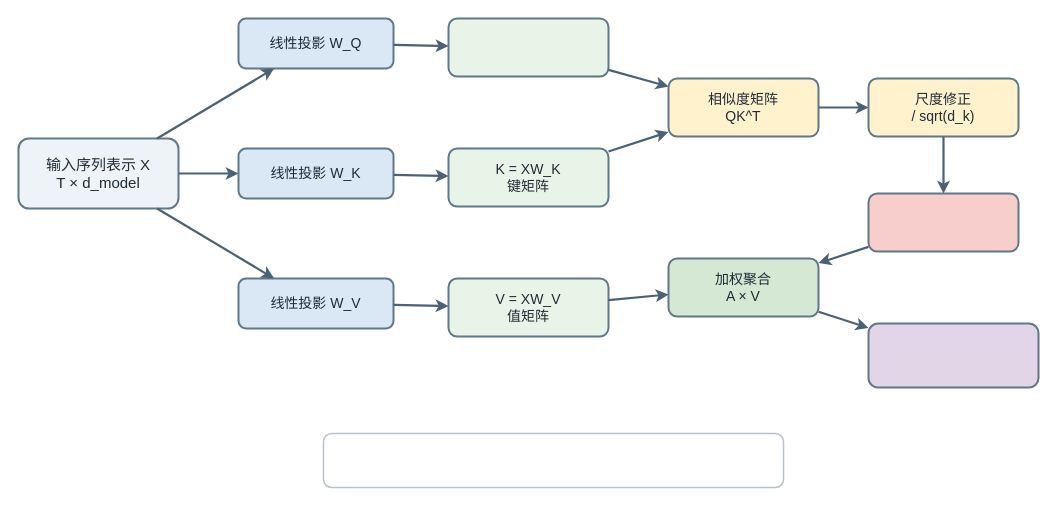
Some shapes in this 1056 by 505 pixel diagram are drawn without their labels. The shapes that lost their labels are listed below. From the top down, each one's centre as x and y in pixels, then its label:
At (x=528, y=47): "Q = XW_Q 查询矩阵".
At (x=943, y=222): "Softmax 注意力权重 A".
At (x=953, y=355): "输出表示 Z Attention(Q,K,V)".
At (x=553, y=460): "Z = softmax(QK^T / sqrt(d_k)) V".
